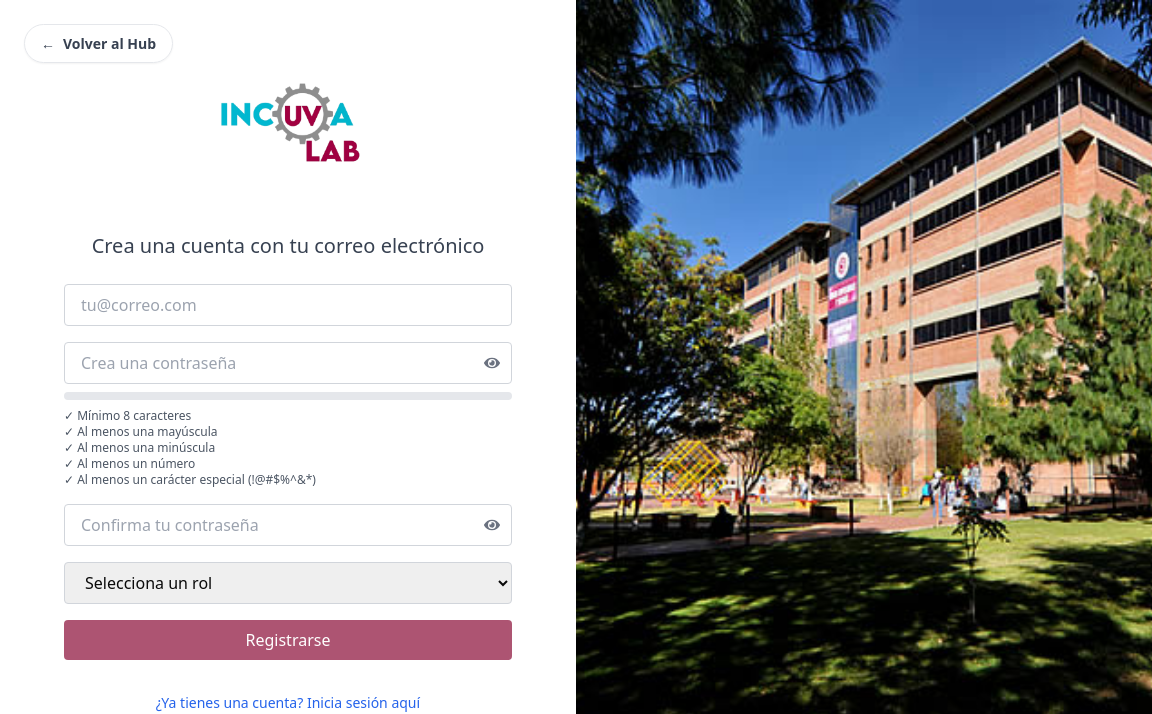
it: RegisterForm › muestra error si las contraseñas no coinciden
In the password field with placeholder "Crea una contraseña": (288, 363) x1=64 y1=342 x2=512 y2=384, type "Clave123!"
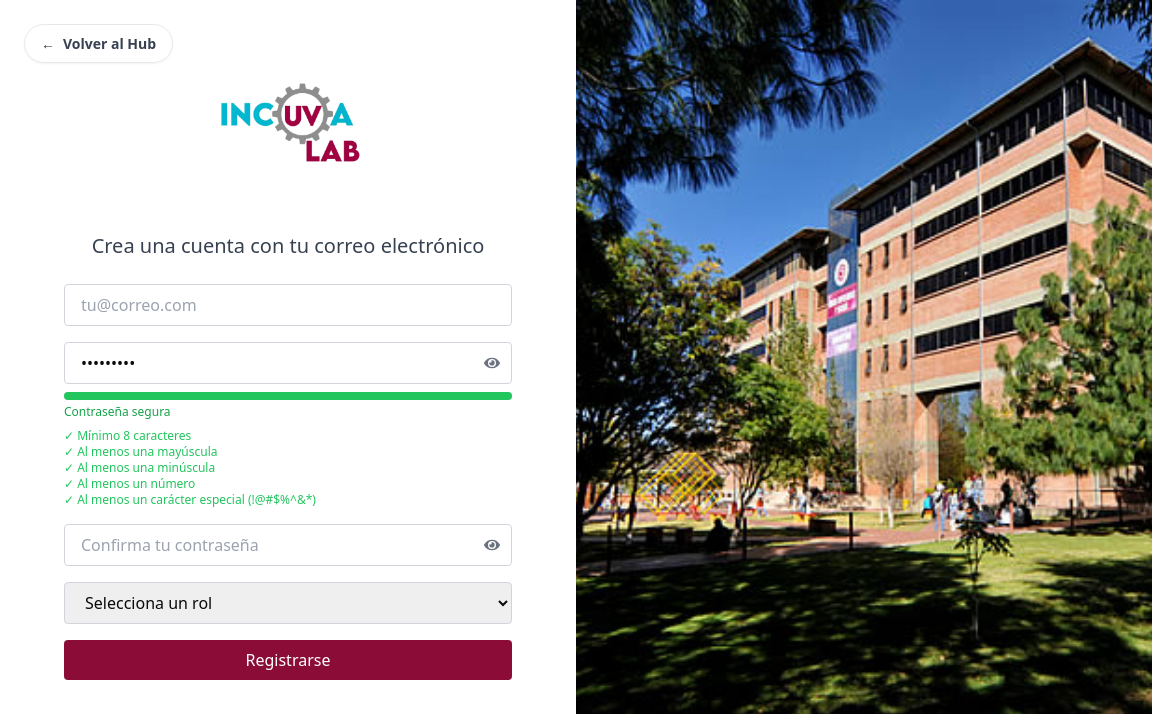
In the password field with placeholder "Confirma tu contraseña": (288, 545) x1=64 y1=524 x2=512 y2=566, type "OtraClave123!"
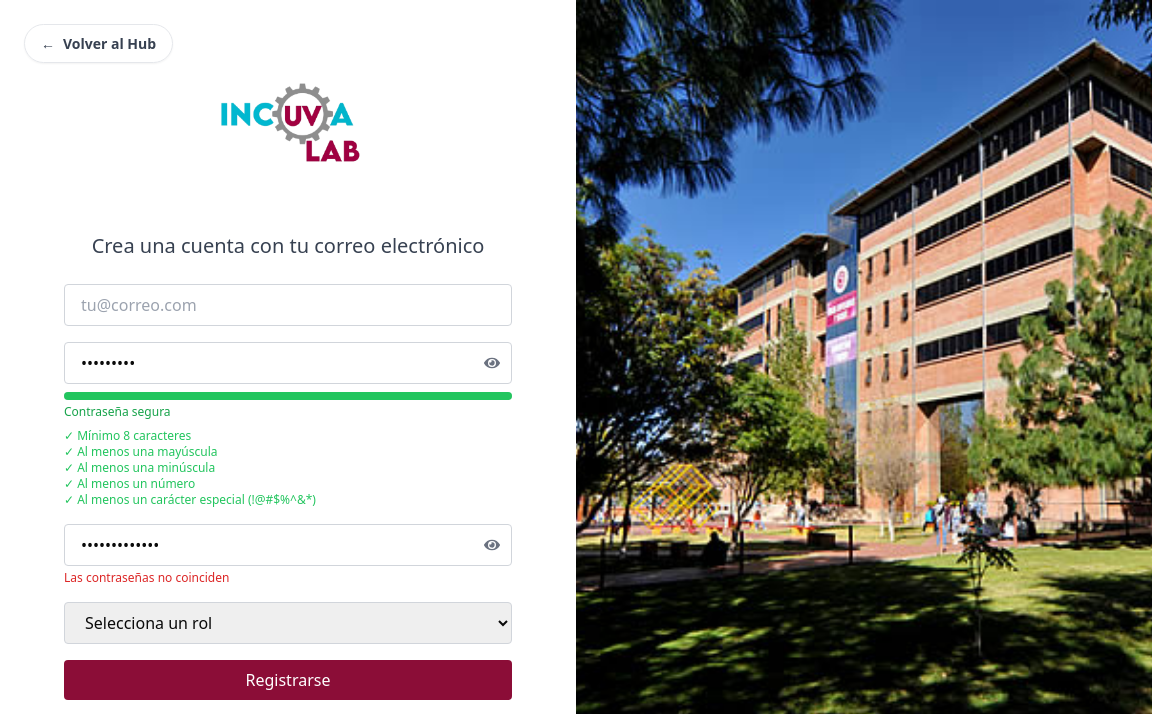
In the field with placeholder "tu@correo.com": (288, 305) x1=64 y1=284 x2=512 y2=326, type "test@example.com"
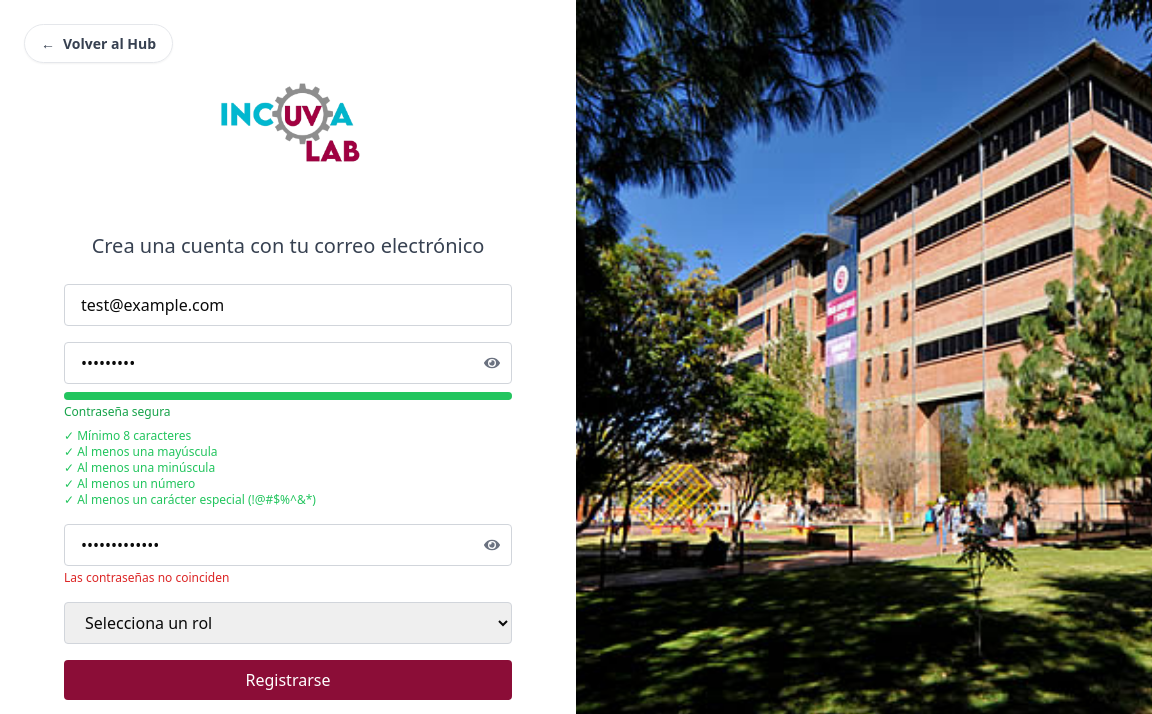
Select "Emprendedor" in the dropdown: (288, 623) x1=64 y1=602 x2=512 y2=644
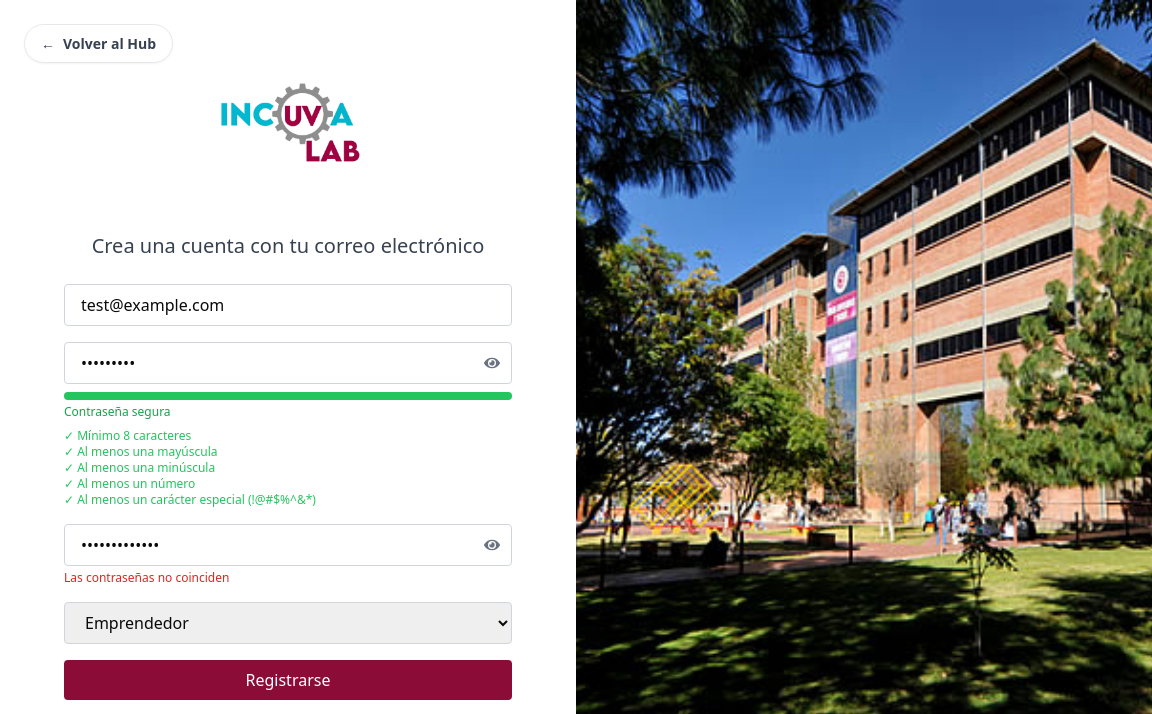
Click the button "Registrarse": (288, 680) x1=64 y1=660 x2=512 y2=700
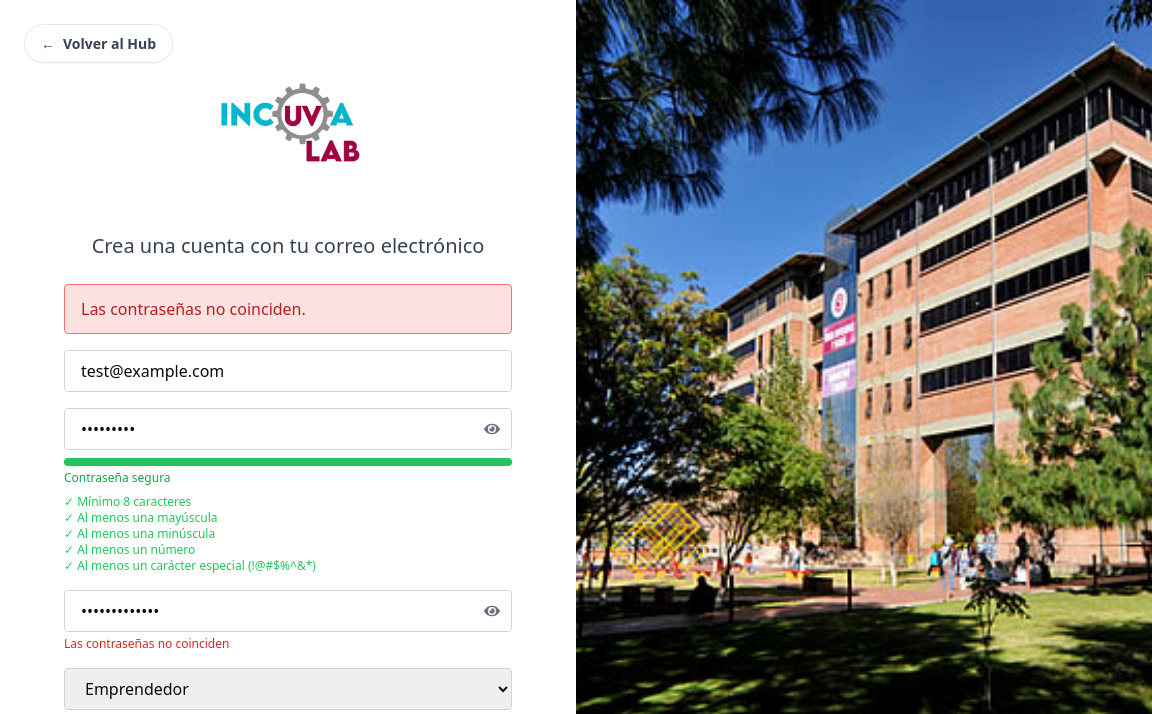
Now the text "Las contraseñas no coinciden." is shown, box x1=64 y1=284 x2=512 y2=334
